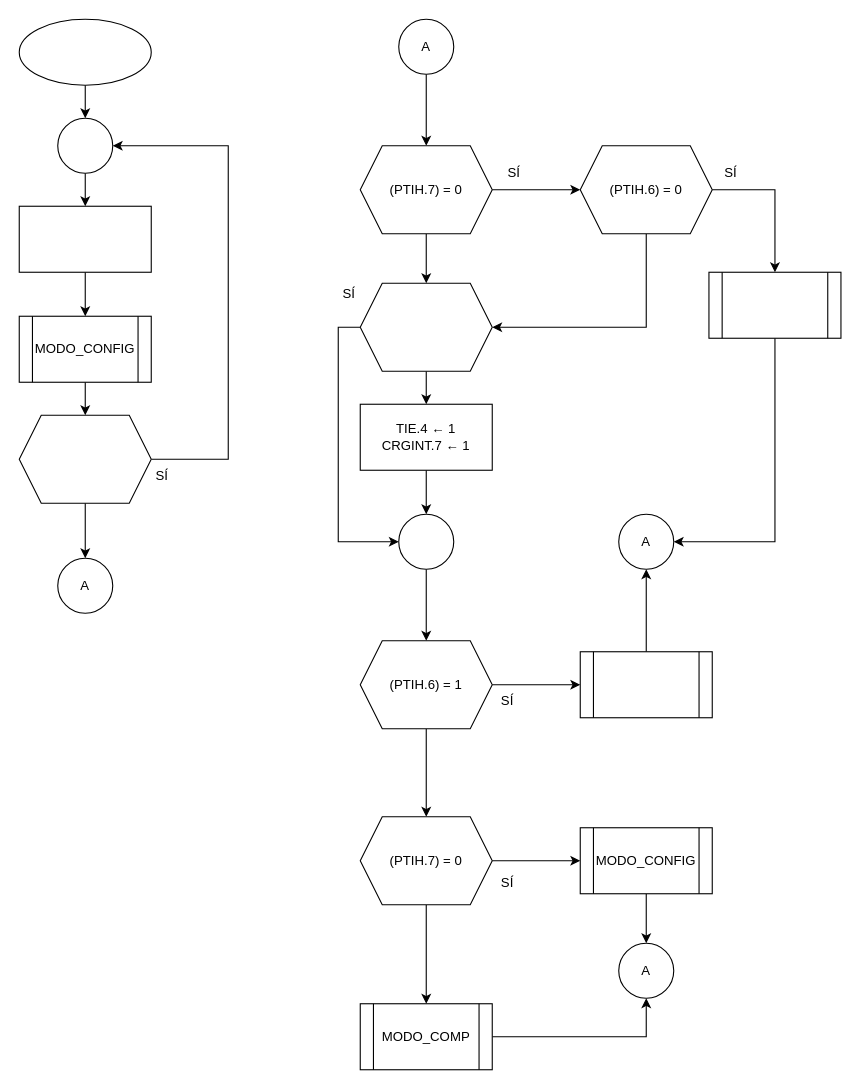
Image size: 860x1089. Some labels were removed from this diagram. The centre of each missing label's shape, as x and y in pixels:
"(CRGINT.7) = 1" goes at point (425, 326).
"(NumVueltas) = 0" goes at point (84, 458).
"BIN1 ← $BB BIN2 ← $BB" goes at point (84, 238).
"MAIN" goes at point (84, 51).
"MODO_LIBRE" goes at point (774, 304).
"MODO_RESUM" goes at point (645, 684).
